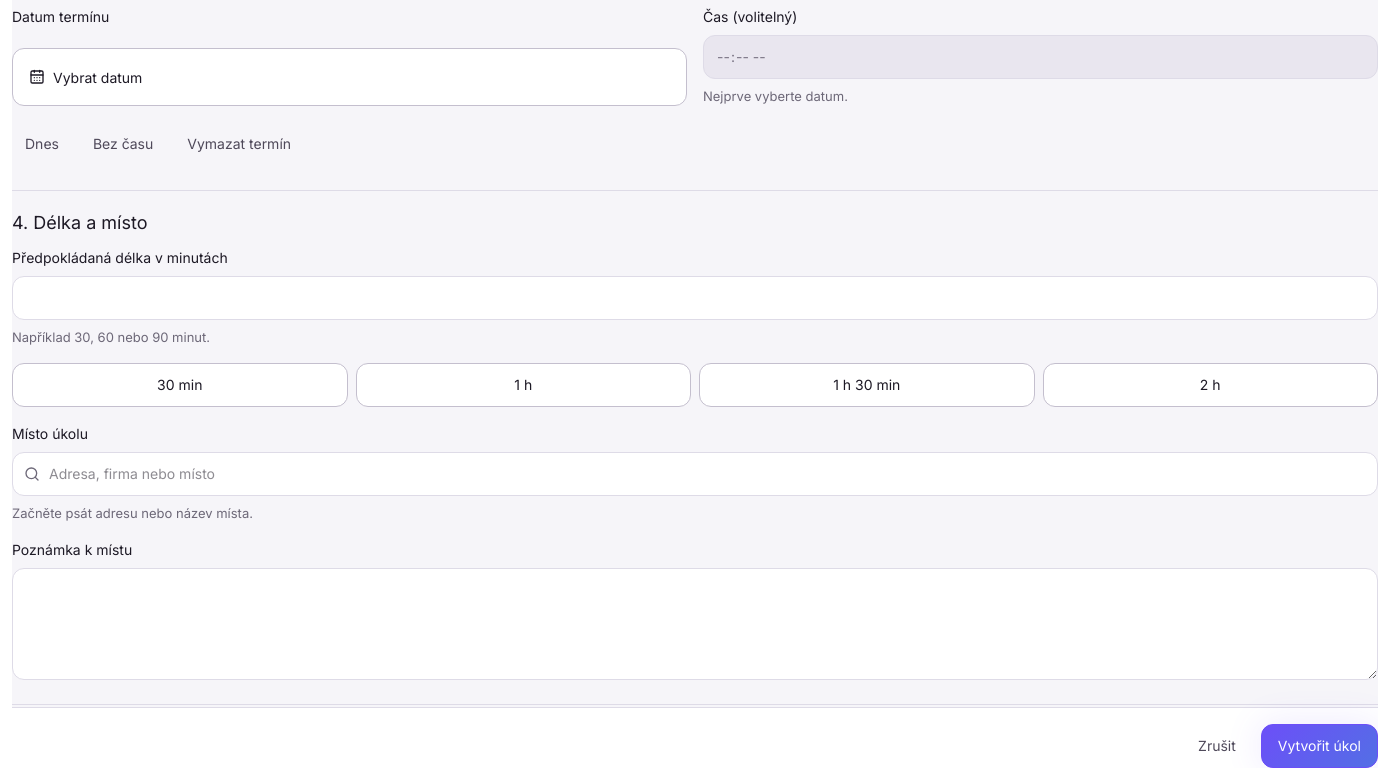
it: agenda frontend › sets duration preset 30 min without submitting
(page scrolled)
Click the button "30 min": {"x": 180, "y": 385} [12,363,348,407]
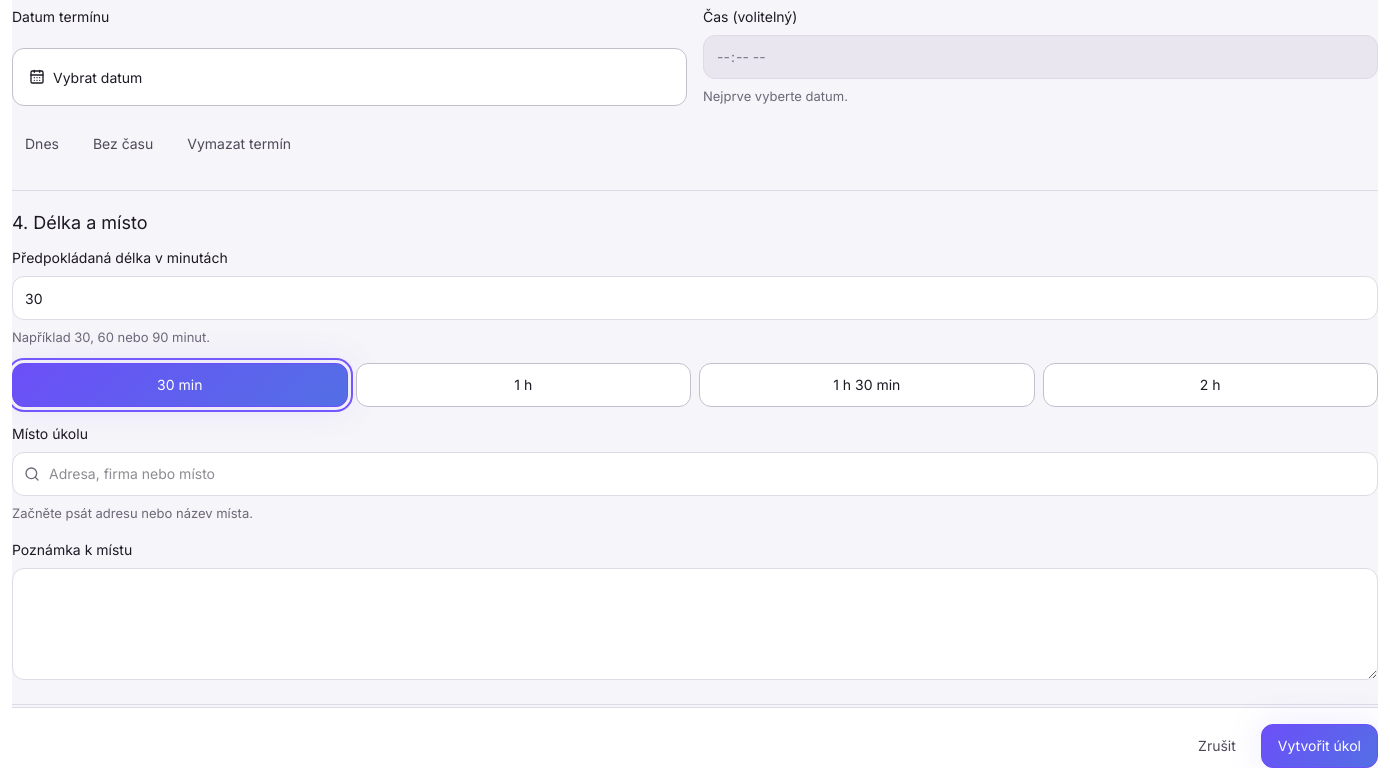
Check: the number field labelled "Předpokládaná délka v minutách" holds "30", box [12,276,1378,320]
